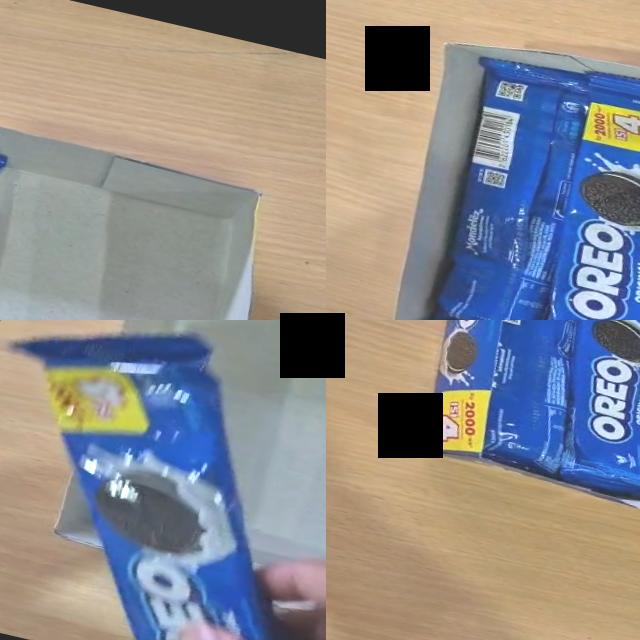Oreo: (0, 320, 326, 640), (428, 59, 586, 320), (462, 320, 612, 479), (551, 72, 640, 320), (524, 320, 640, 505)
